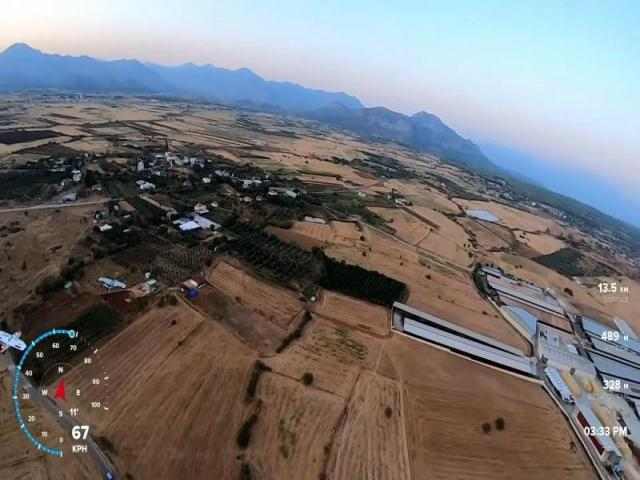hedef: (96, 274, 130, 298)
